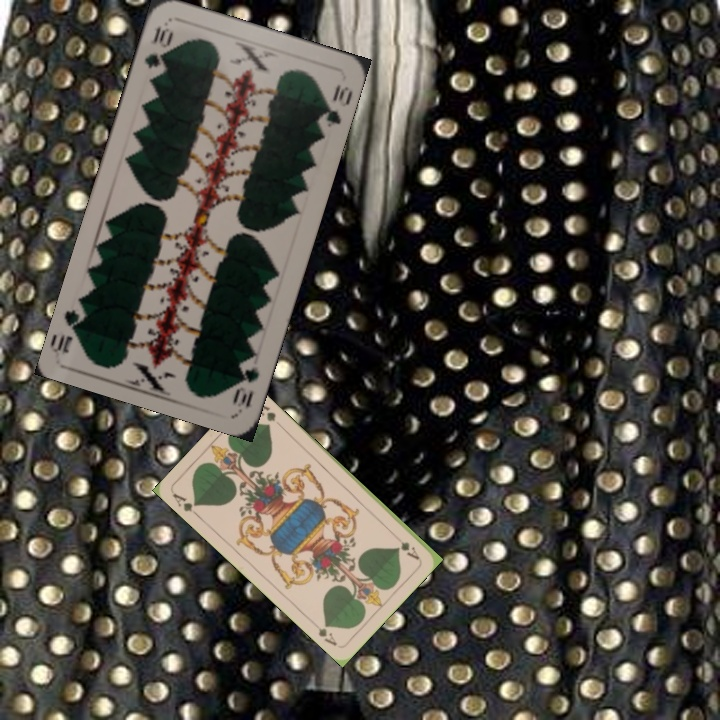G10: (228, 352, 262, 410), (140, 22, 176, 71)
GA: (168, 489, 203, 520), (389, 530, 422, 562)
